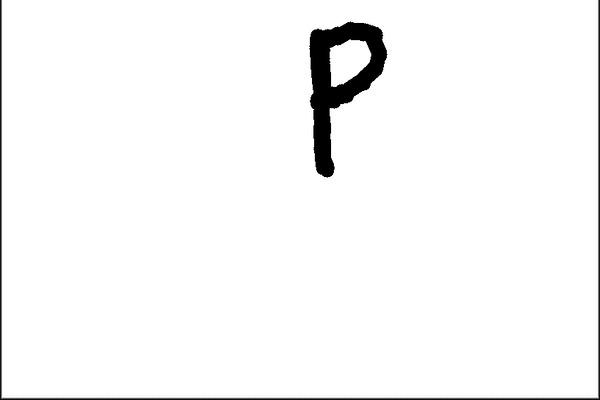P: (282, 13, 403, 188)
